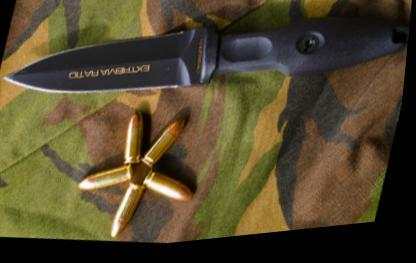knife: (0, 0, 230, 123)
